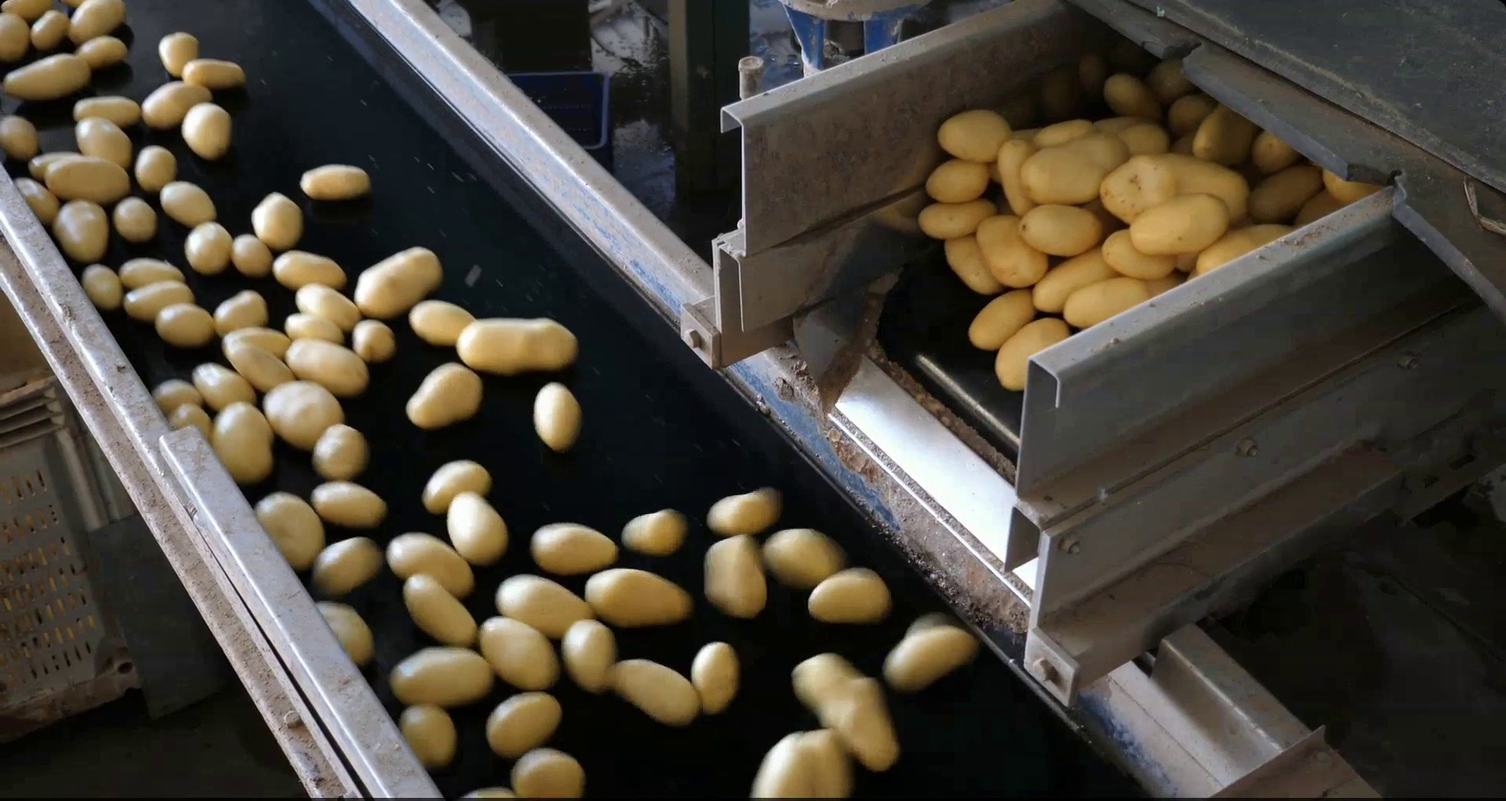potato: (787, 654, 906, 777), (1091, 148, 1255, 230), (448, 311, 585, 376), (1016, 131, 1130, 209), (877, 614, 984, 697), (746, 723, 852, 801), (349, 242, 449, 323), (579, 564, 698, 630), (384, 642, 499, 710), (489, 570, 598, 641), (472, 611, 563, 695), (605, 655, 706, 729), (1124, 191, 1231, 259), (991, 313, 1076, 396), (260, 375, 350, 453), (398, 357, 488, 433), (249, 489, 329, 574), (397, 571, 481, 651), (380, 529, 480, 596), (699, 531, 771, 624), (1189, 219, 1296, 281), (205, 397, 278, 487), (758, 522, 850, 592), (482, 687, 567, 761), (801, 563, 897, 628), (1028, 246, 1116, 315), (282, 335, 373, 400), (304, 531, 389, 600), (973, 214, 1050, 289), (443, 487, 513, 569), (527, 519, 623, 577), (1060, 274, 1155, 330), (1017, 200, 1107, 259), (34, 153, 133, 206), (1, 49, 97, 103), (963, 283, 1039, 351), (216, 338, 302, 398), (558, 614, 620, 697), (933, 104, 1017, 165), (311, 595, 377, 671), (395, 698, 461, 772), (701, 484, 788, 540), (417, 455, 495, 517), (1245, 160, 1324, 221), (686, 636, 744, 719), (507, 744, 590, 801), (307, 476, 393, 531), (1098, 226, 1179, 282), (528, 378, 585, 456), (51, 196, 113, 266), (307, 421, 374, 484), (991, 129, 1040, 214), (941, 231, 1003, 298), (406, 295, 480, 350), (617, 505, 692, 559), (291, 281, 365, 335), (118, 277, 198, 326), (188, 358, 257, 414), (139, 78, 210, 132), (915, 197, 1002, 241), (247, 189, 307, 252), (920, 154, 994, 205), (271, 247, 351, 292), (180, 100, 236, 163), (71, 115, 136, 169), (295, 160, 376, 202), (207, 287, 272, 339), (151, 300, 218, 350), (180, 217, 236, 276), (157, 176, 220, 228), (1100, 69, 1163, 118), (116, 253, 193, 292), (68, 91, 144, 129), (65, 1, 130, 44), (1188, 103, 1235, 161), (129, 142, 180, 195), (223, 324, 296, 361), (154, 27, 204, 81), (282, 309, 354, 346), (1250, 125, 1302, 176), (348, 316, 400, 367), (78, 260, 127, 314), (110, 194, 160, 245), (1320, 167, 1382, 208), (1114, 116, 1173, 159), (16, 175, 63, 227), (177, 56, 249, 89), (1030, 116, 1099, 150), (1165, 89, 1217, 134), (229, 230, 276, 278), (148, 376, 205, 415), (71, 33, 131, 70), (27, 4, 71, 53), (1149, 59, 1199, 100), (1, 112, 42, 161), (1, 7, 33, 67), (1290, 188, 1341, 225), (166, 398, 213, 437), (1, 1, 58, 24), (1142, 271, 1187, 297), (456, 785, 523, 801)
